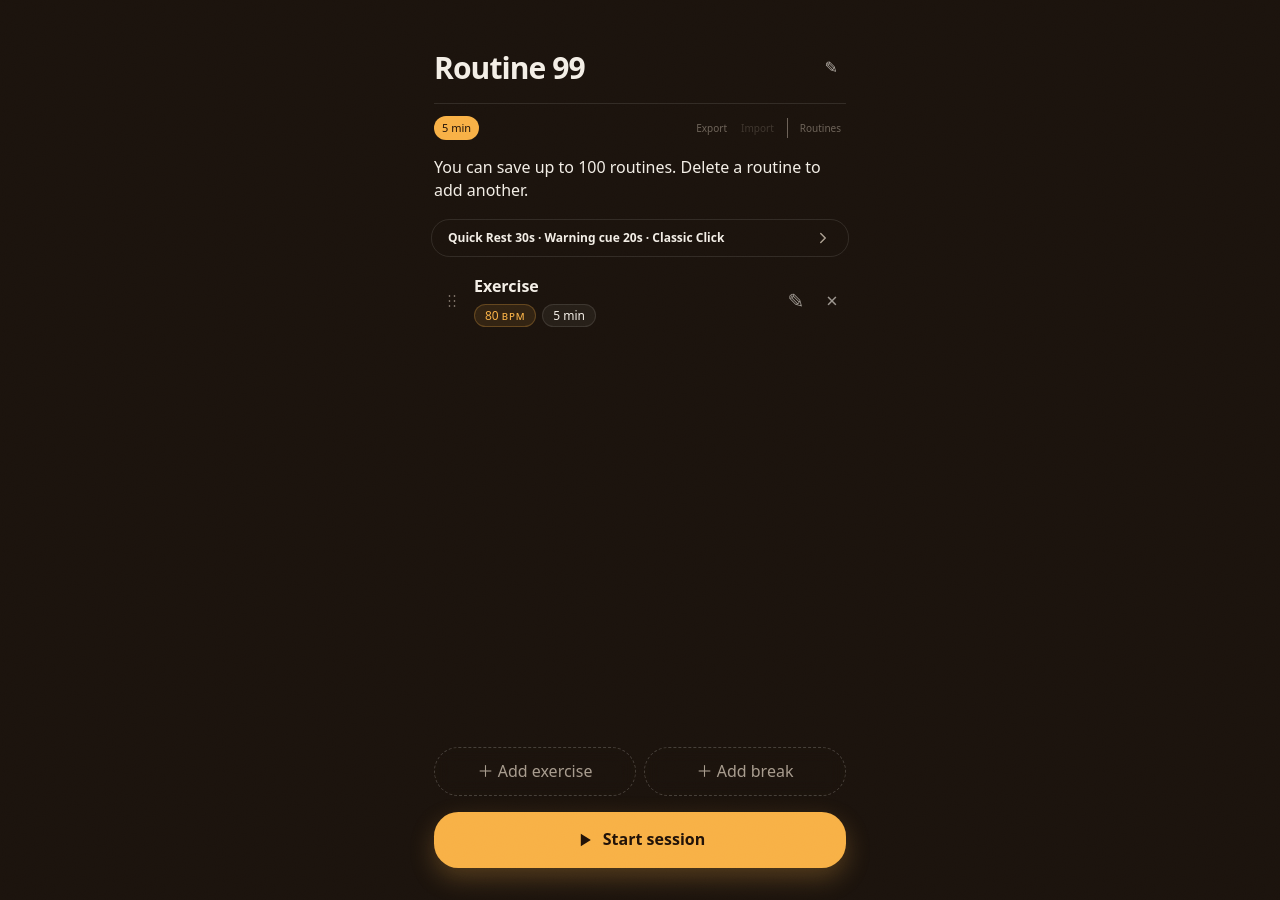
Test: RoutineEditor › disables creation and Import at capacity and restores them after deletion
The width and height of the screenshot is (1280, 900).
expect the button "Import" is disabled: met, box [736,118,779,138]
Click the button "Routines": point(816, 128) [787,118,846,138]
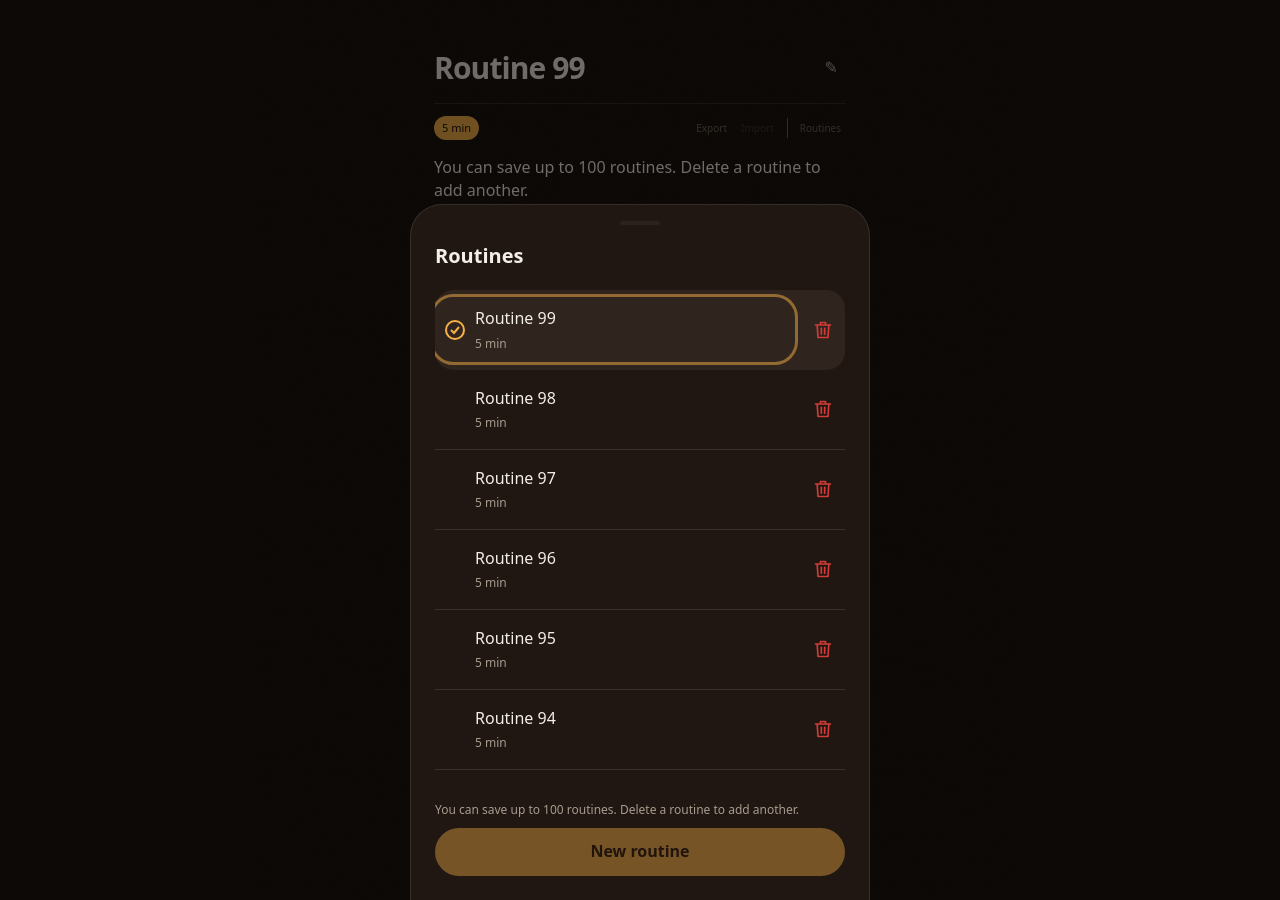
expect the button "New routine" is disabled: met, box [435,828,845,876]
Click the button named "Delete routine Routine 98": point(823, 409) [801,387,845,431]
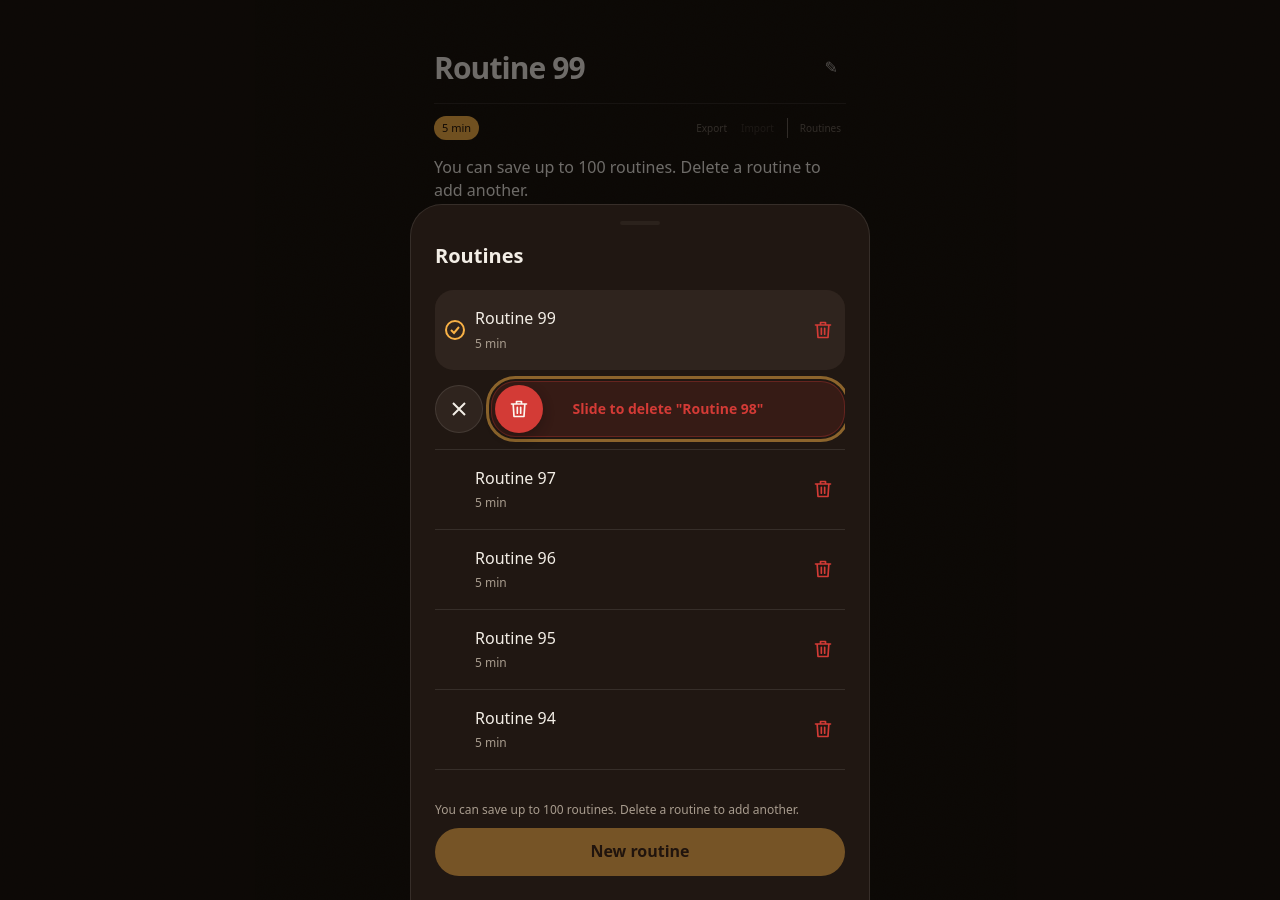
Press End in the slider labelled "Slide to delete \"Routine 98\"", box [491,381,845,437]
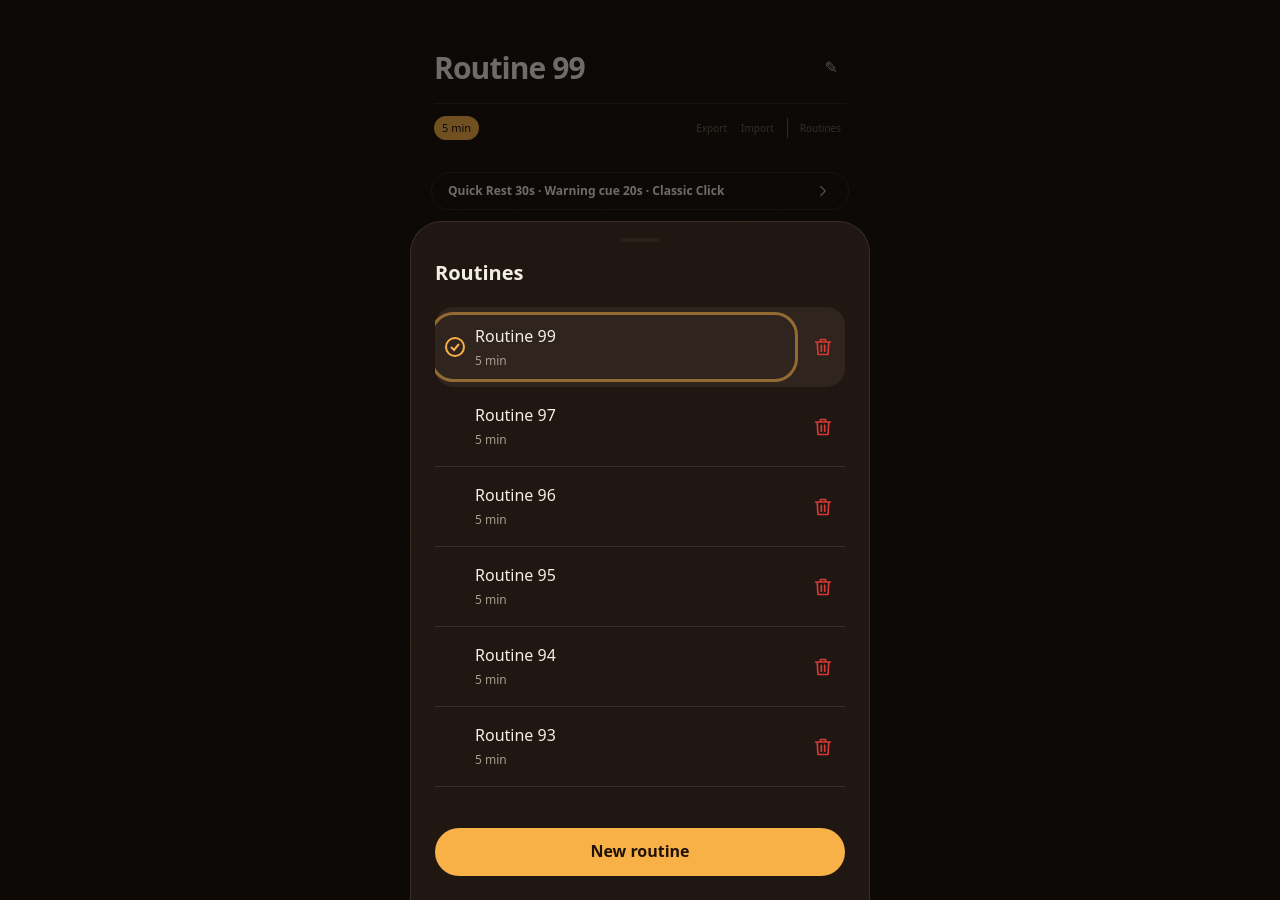
expect the button "Import" is enabled: met, box [736,118,779,138]
expect the button "New routine" is enabled: met, box [435,828,845,876]
